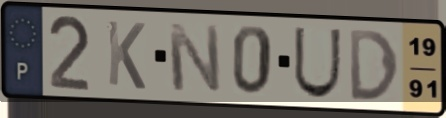0: (230, 23, 275, 98)
2: (48, 13, 92, 93)
D: (346, 27, 402, 103)
K: (105, 17, 148, 93)
N: (165, 20, 225, 95)
U: (291, 25, 344, 101)
